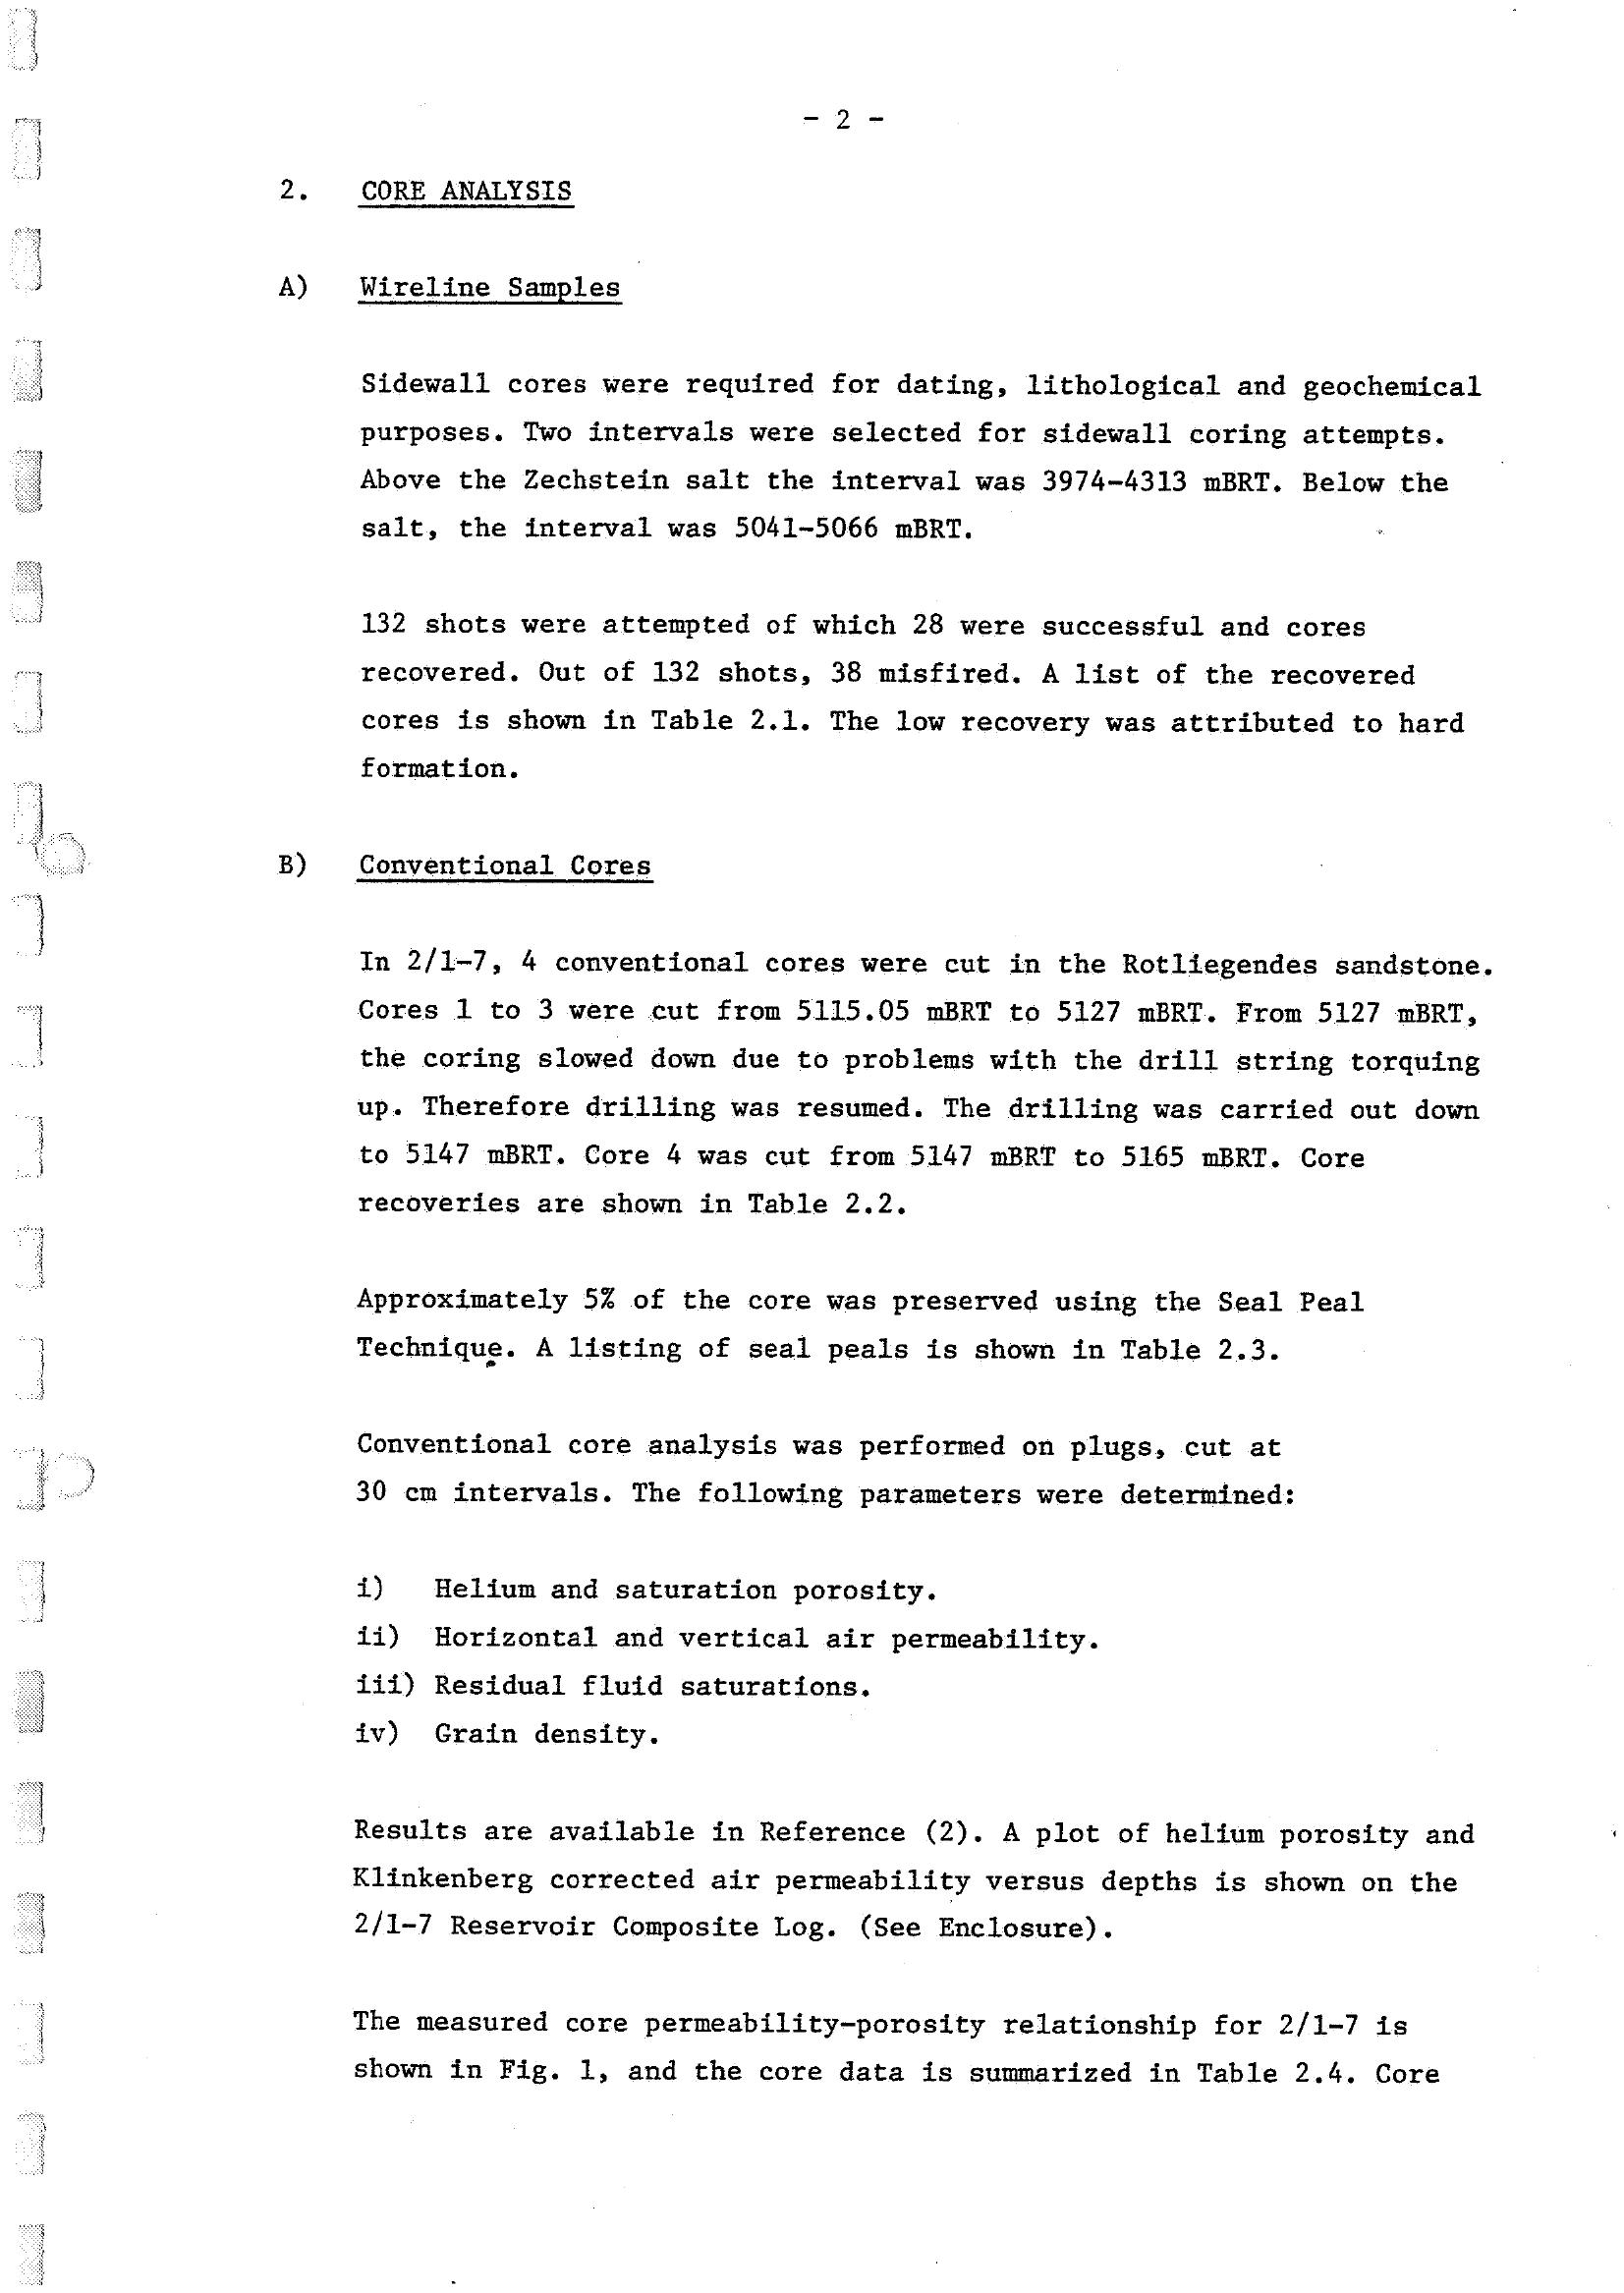text: (227, 155, 1536, 2138)
